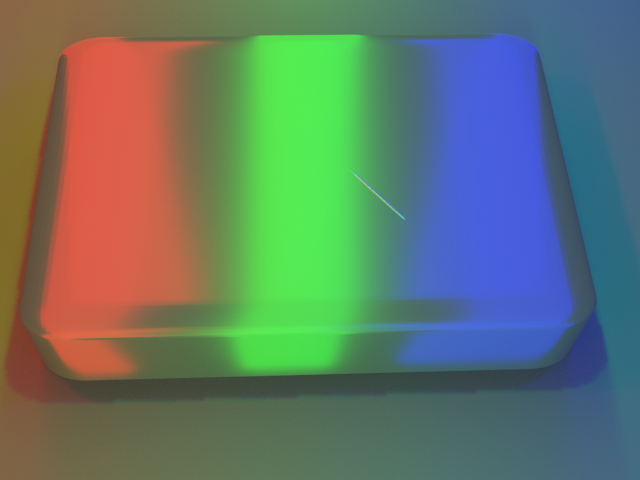scratch: (248, 114, 518, 271)
